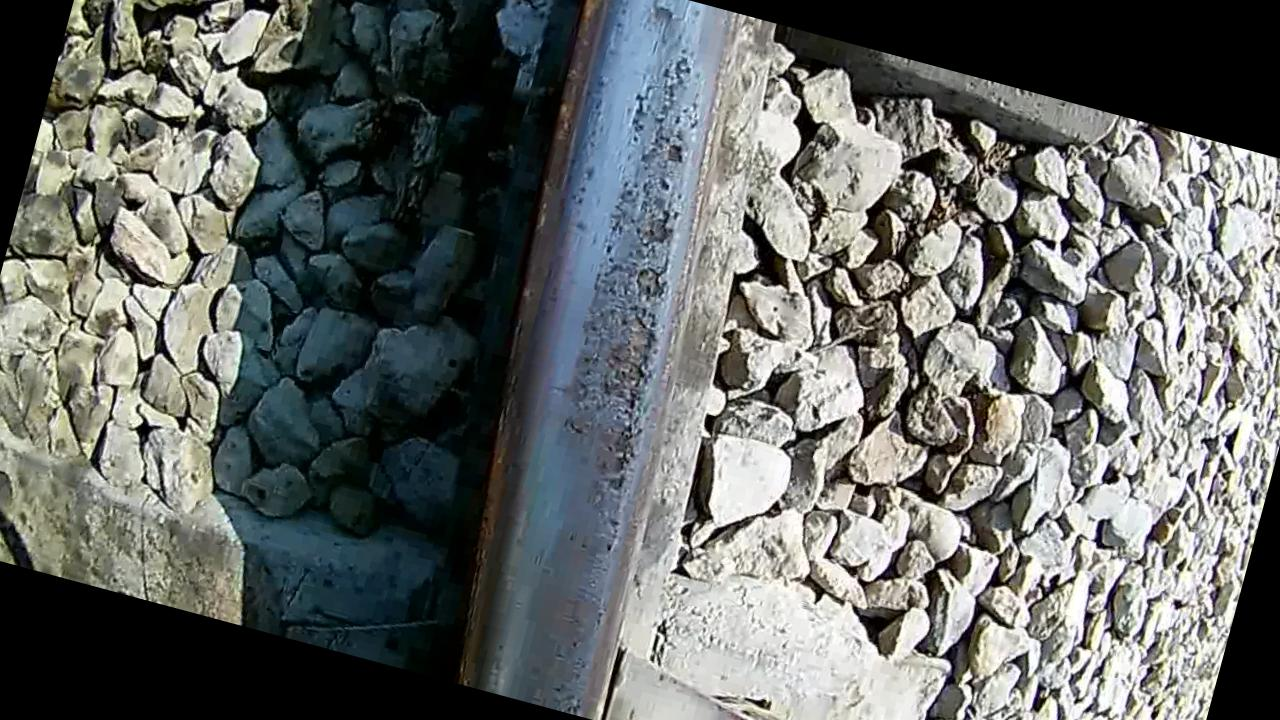crack: (410, 0, 790, 720)
